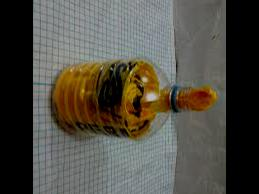Plastic: (49, 58, 220, 137)
